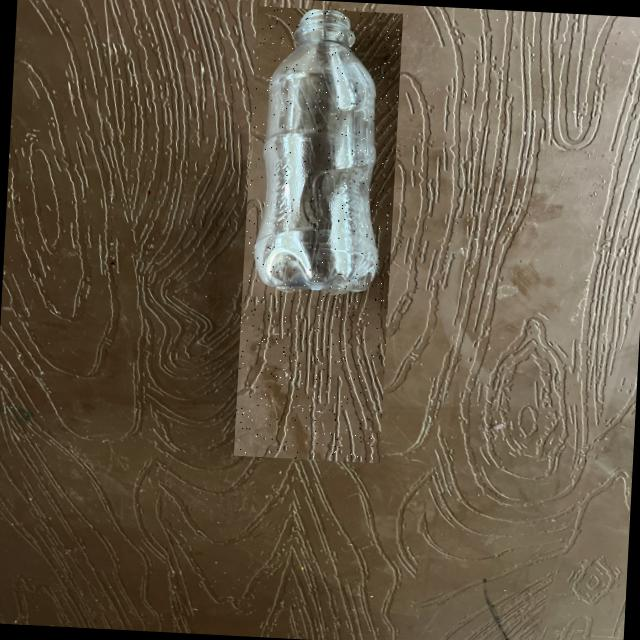PET_ClearBottle: (233, 3, 402, 462)
